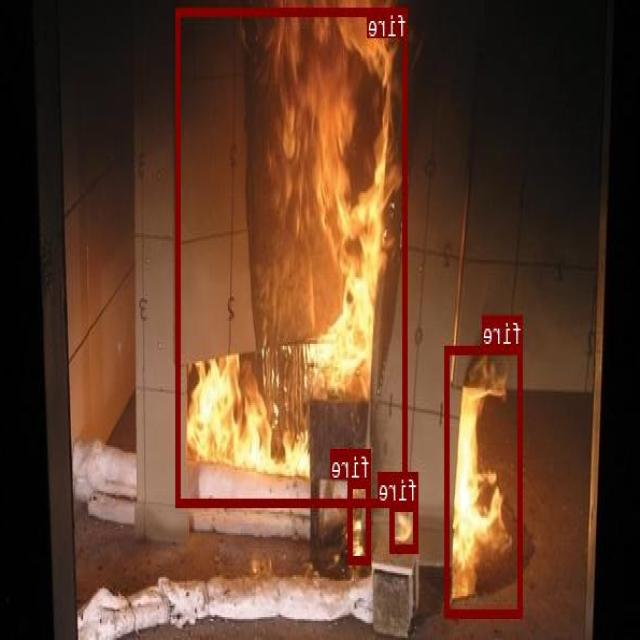fire: (177, 7, 409, 504), (446, 345, 524, 617), (349, 478, 372, 564), (391, 501, 419, 552)
